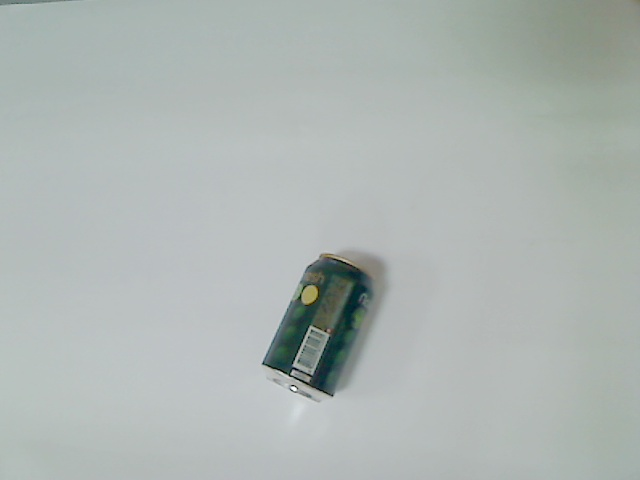can: (260, 250, 377, 405)
